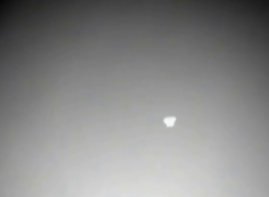Target: (163, 117, 175, 126)
